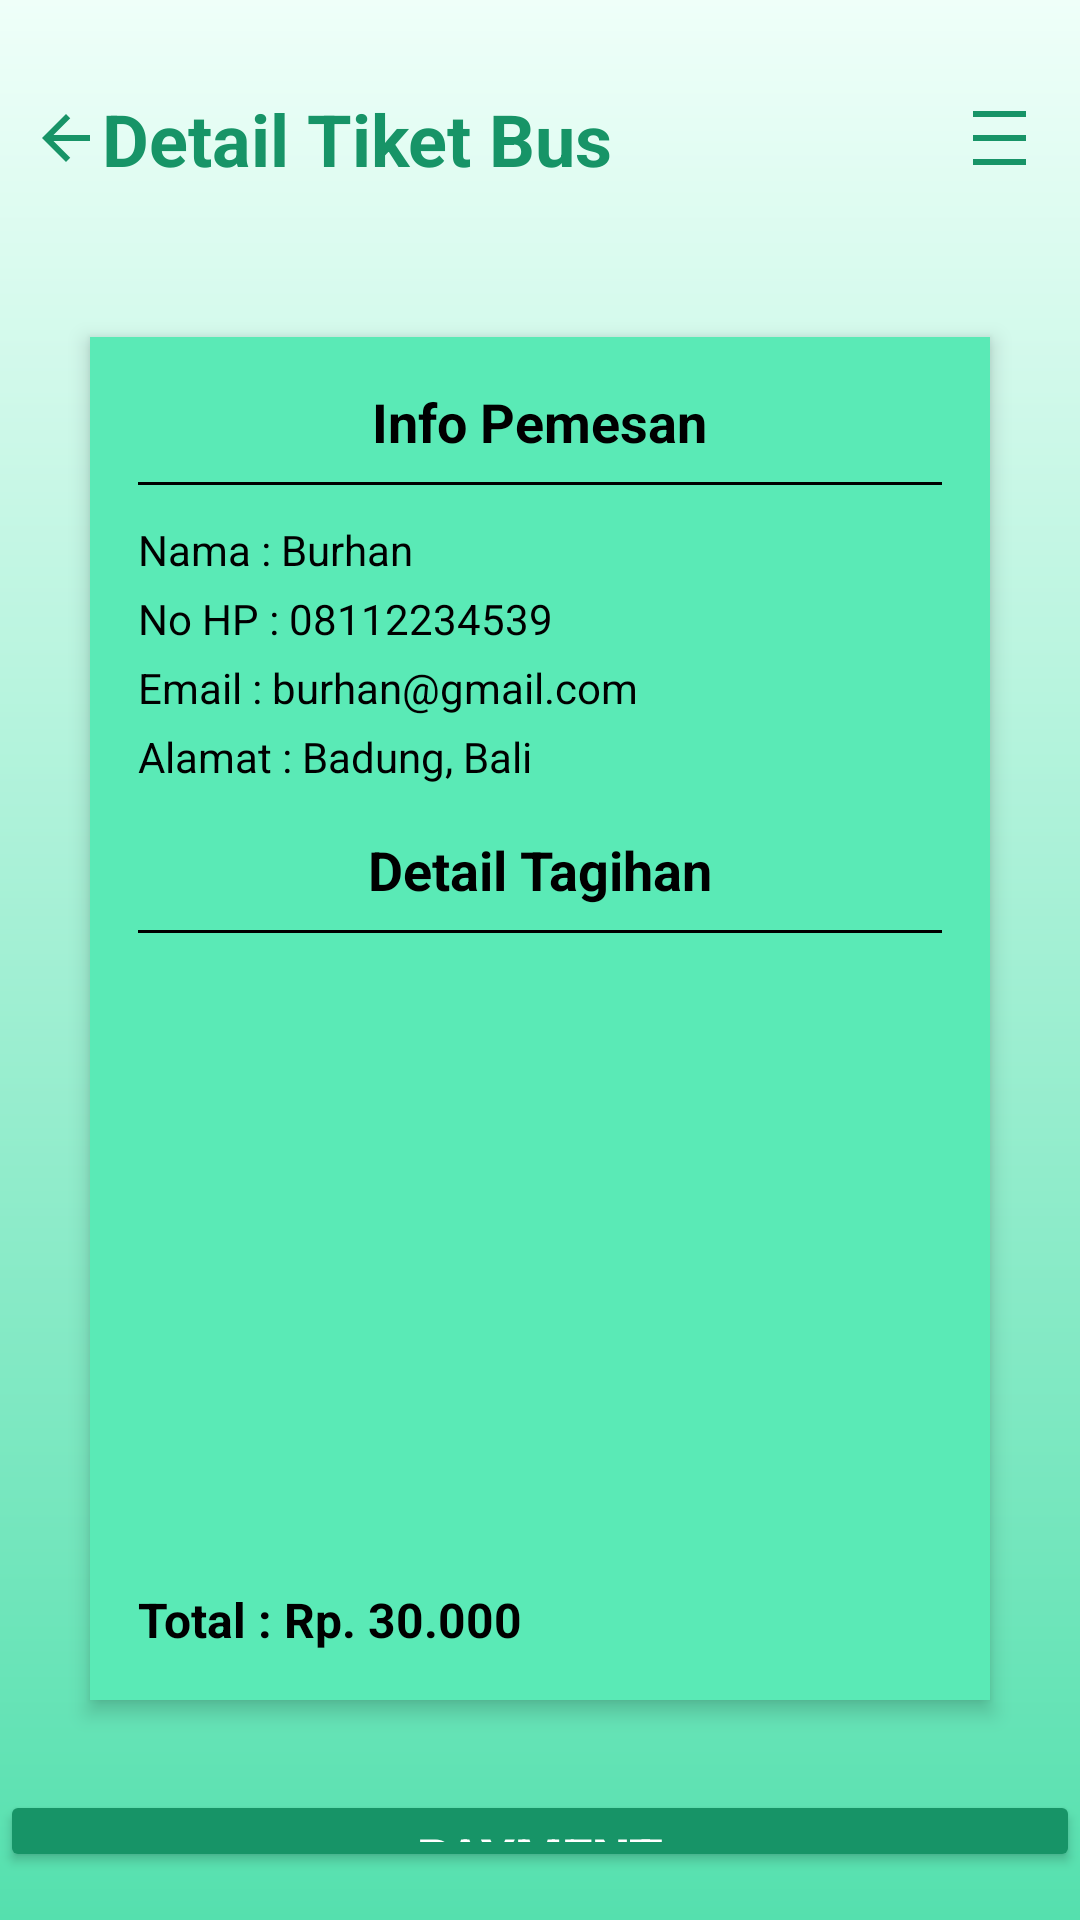

Screen size 1080px x 1920px. Icon name, then its box in pixels as (x1, y1, x2, y2):
Kembali: (42, 114, 90, 162)
Navigasi: (973, 111, 1026, 165)
